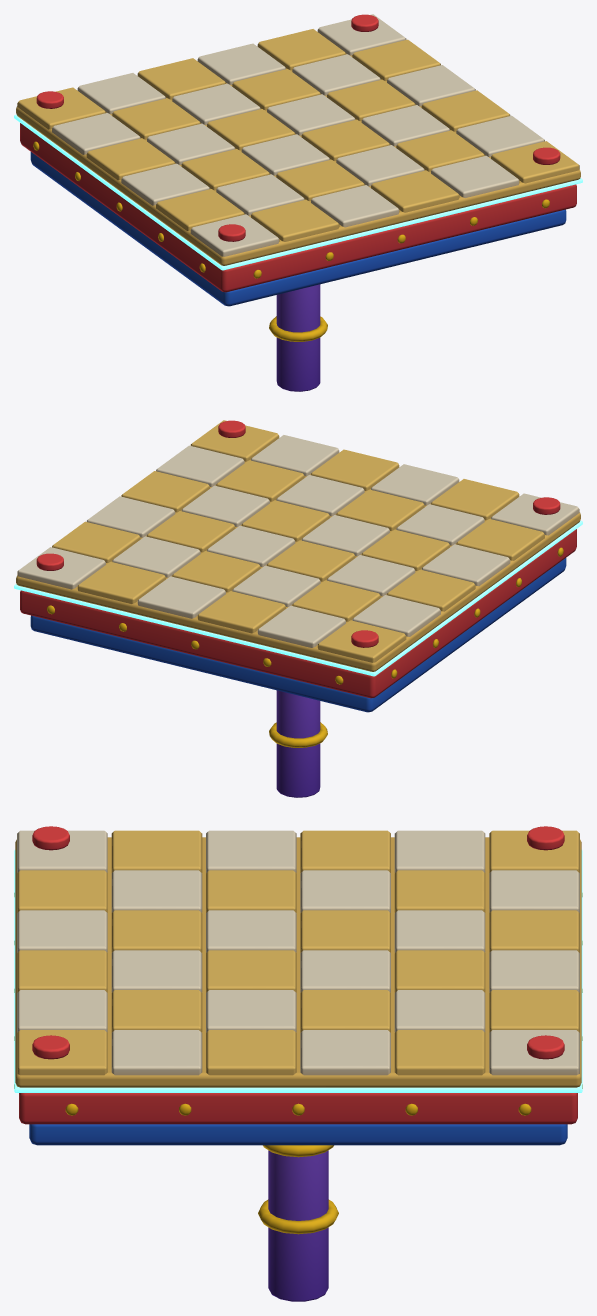
Rendered from PLAT_Toy_Wide.glb.
3 renders of one model, top to bottom at view 1: azimuth 30°, elevation 25°; view 2: azimuth 150°, elevation 25°; view 3: azimuth 270°, elevation 25°, orthographic. The views are drawn at different scales.
Visible parts, largest first — view 1: Body, EdgeGlow; view 2: Body, EdgeGlow; view 3: Body, EdgeGlow.
Boxes of the visible parts, x1,y1,x2,y2 form: Body: (16,14,580,391); EdgeGlow: (14,114,582,270); Body: (16,420,580,797); EdgeGlow: (14,520,582,676); Body: (14,826,582,1301); EdgeGlow: (14,850,582,1092).
Bounding box in the file's own units: 6.03 × 4.12 × 6.03.
